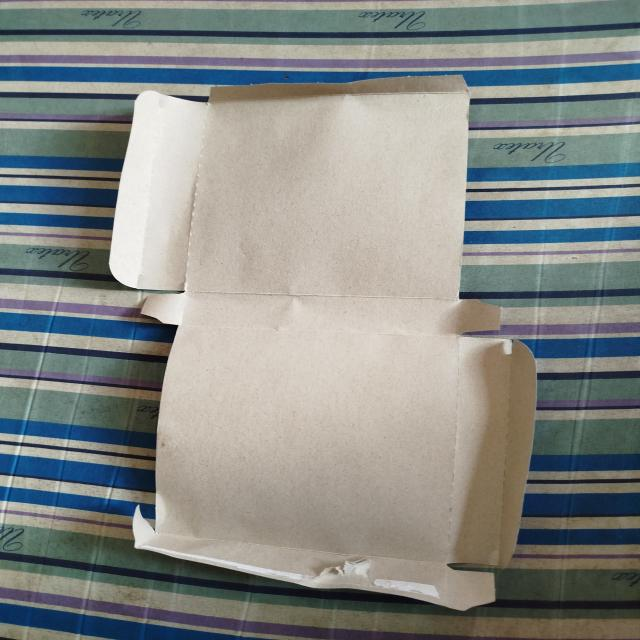paper: (70, 64, 578, 627)
